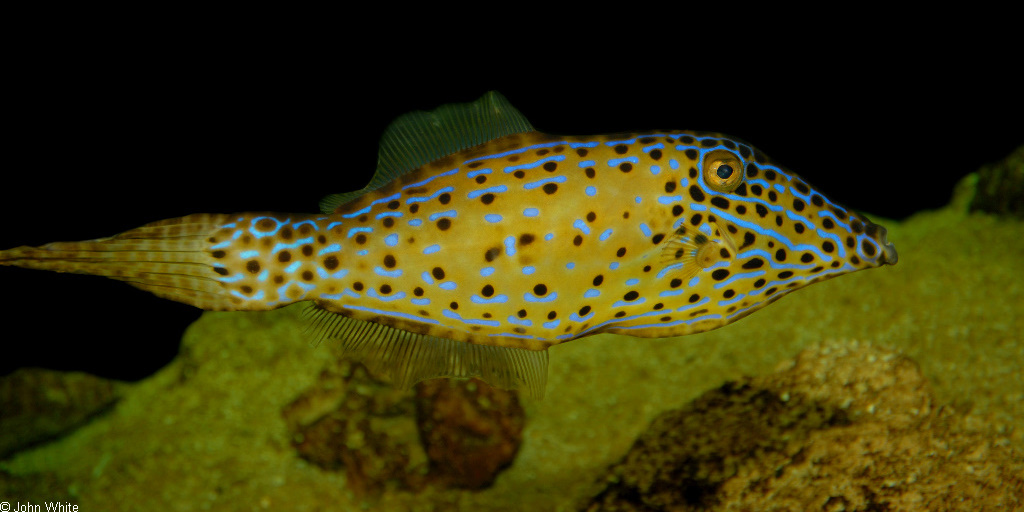Aluterus_scriptus: (2, 82, 904, 397)
